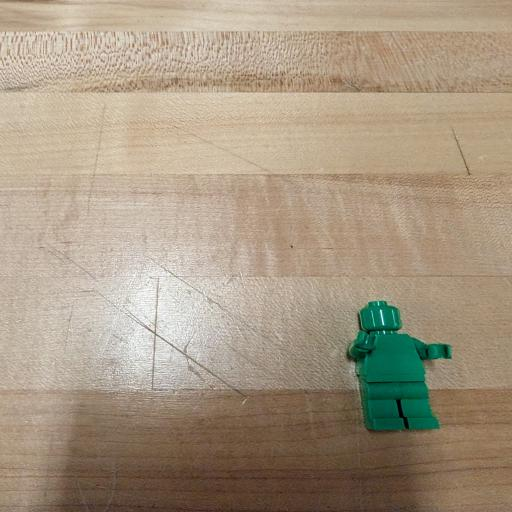Minifig: (349, 301, 451, 429)
